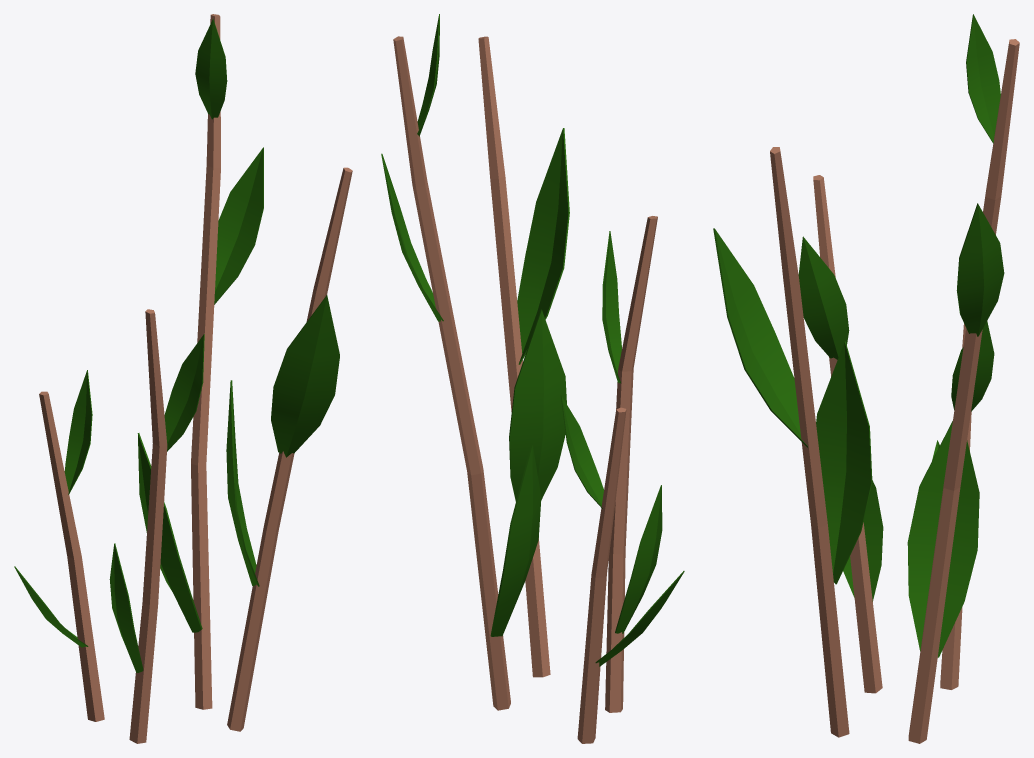
The model's file is grass_1.fbx.
3 renders of one model, left to right at view 1: azimuth 30°, elevation 25°; view 2: azimuth 150°, elevation 25°; view 3: azimuth 270°, elevation 25°, orthographic. The views are drawn at different scales.
Parts seen in each view (by area): view 1: grass_1; view 2: grass_1; view 3: grass_1.
Boxes of the visible parts, box(x1,y1,x2,y2) form: grass_1: box(14, 14, 352, 743); grass_1: box(381, 14, 684, 743); grass_1: box(713, 14, 1019, 743).
Bounding box in the file's own units: 193 × 455 × 170.
